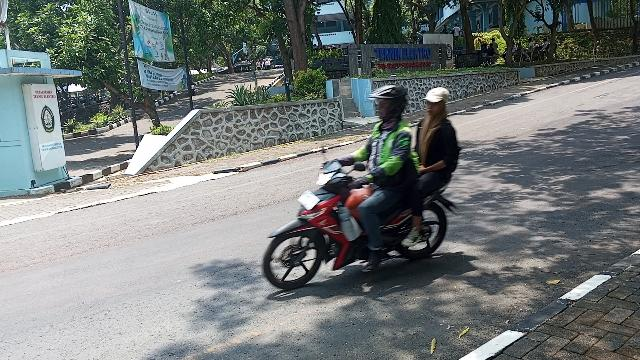helm: (369, 84, 412, 125)
motor: (261, 145, 462, 294)
non-helm: (420, 87, 453, 121)
